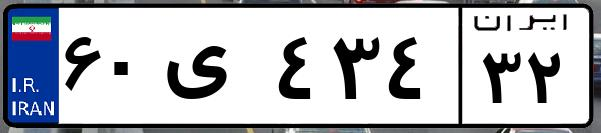0: (110, 28, 158, 98)
2: (525, 38, 570, 115)
3: (330, 28, 385, 110), (475, 38, 525, 113)
4: (270, 28, 330, 110), (385, 28, 445, 110)
6: (57, 26, 110, 100)
ی: (158, 20, 270, 120)
